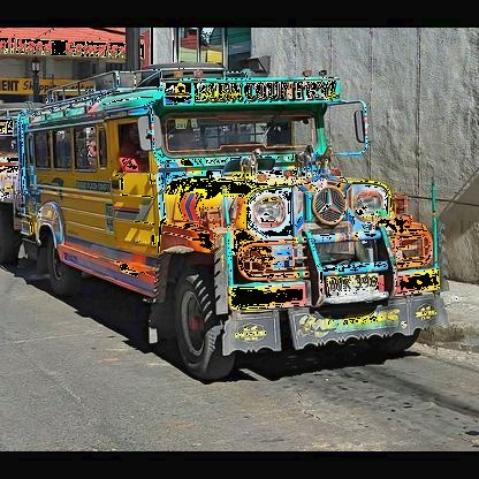jeepney: (7, 62, 458, 382)
